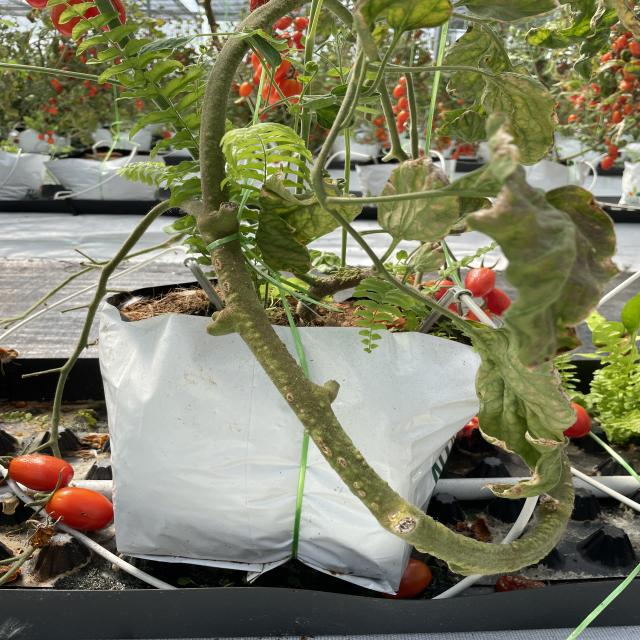Obstacle: (202, 144, 566, 570), (444, 269, 513, 349)
Soilbag: (106, 310, 496, 584)
plant: (100, 16, 500, 326)
